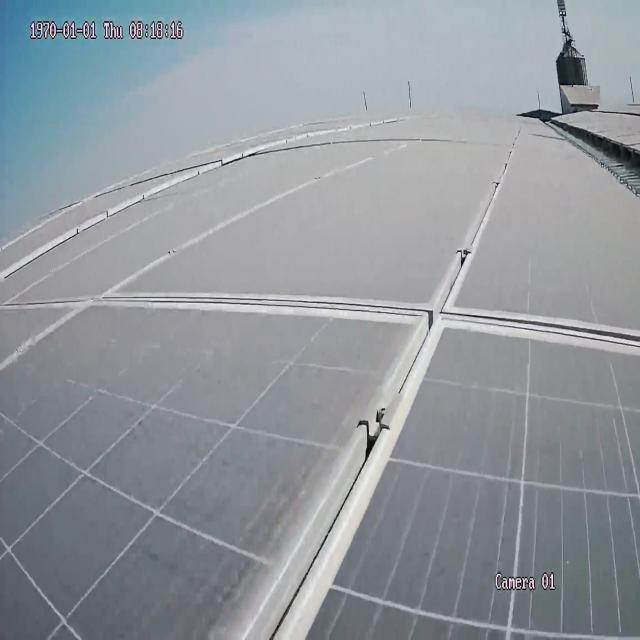interior panel: (104, 155, 640, 636)
